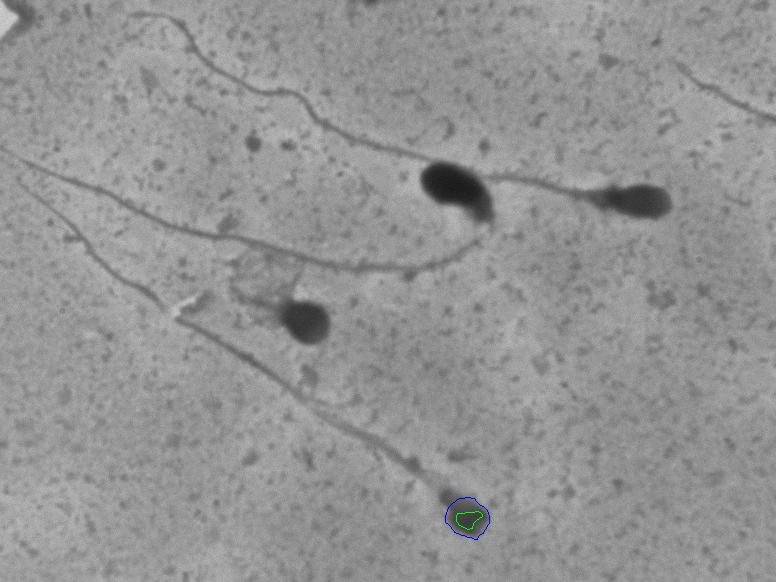Abnormal: (14, 157, 516, 292), (539, 128, 695, 273), (215, 248, 348, 358)
